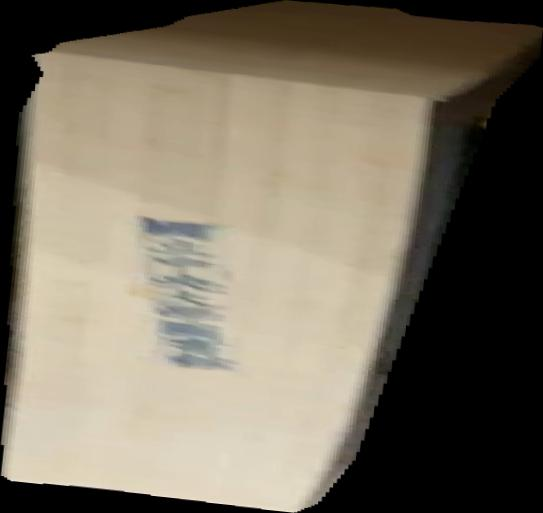backward: (1, 1, 543, 513)
